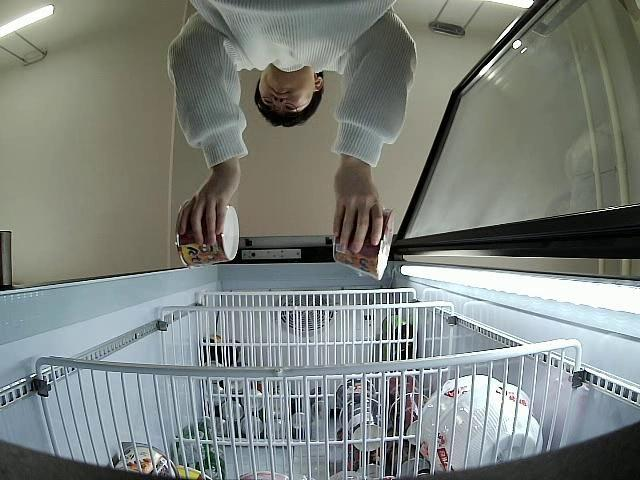05_nuguri_L: (173, 198, 240, 268), (331, 210, 396, 282)
